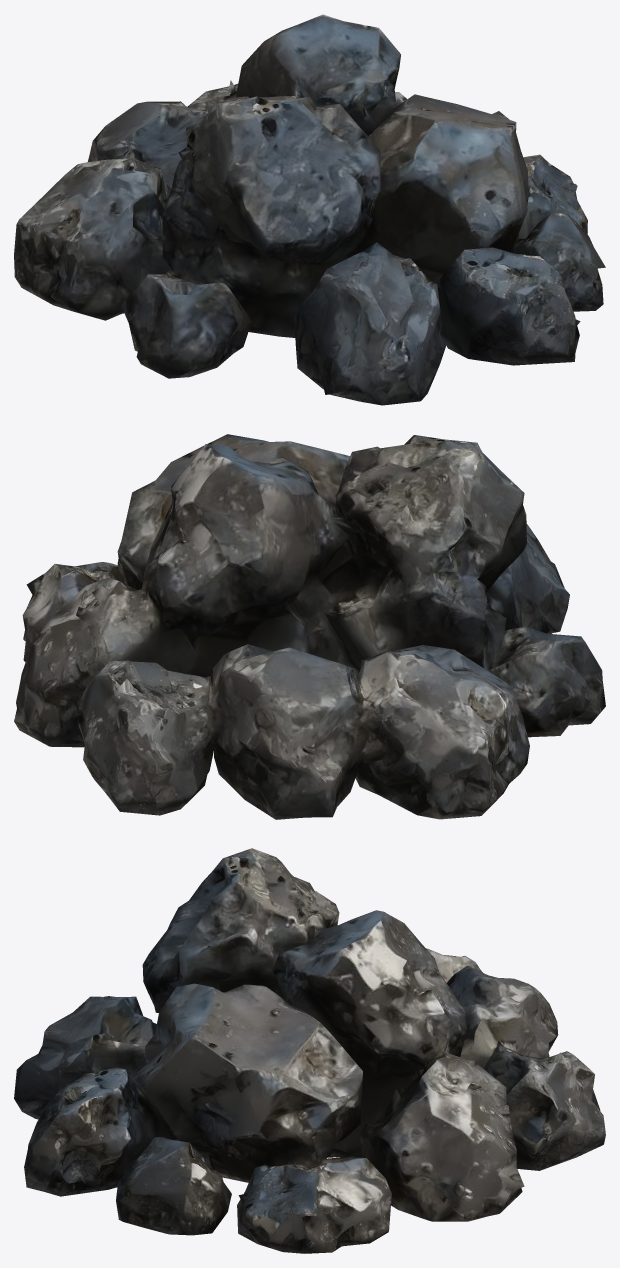
File: qr_ore1.glb
3 renders of one model, top to bottom at view 1: azimuth 30°, elevation 25°; view 2: azimuth 150°, elevation 25°; view 3: azimuth 270°, elevation 25°, orthographic. The views are drawn at different scales.
Visible parts, largest first — view 1: tripo_node_32af5c4c-a85d-48a8-a17e-088f4665e9e1; view 2: tripo_node_32af5c4c-a85d-48a8-a17e-088f4665e9e1; view 3: tripo_node_32af5c4c-a85d-48a8-a17e-088f4665e9e1.
Part boxes in pixels (box(x1,y1,x2,y2)): tripo_node_32af5c4c-a85d-48a8-a17e-088f4665e9e1: box(14, 14, 605, 405); tripo_node_32af5c4c-a85d-48a8-a17e-088f4665e9e1: box(14, 434, 605, 819); tripo_node_32af5c4c-a85d-48a8-a17e-088f4665e9e1: box(14, 848, 605, 1253).
Size of the model in its own units: 0.9432 by 0.4312 by 1.
Materials: 1 (1 with a texture image).
